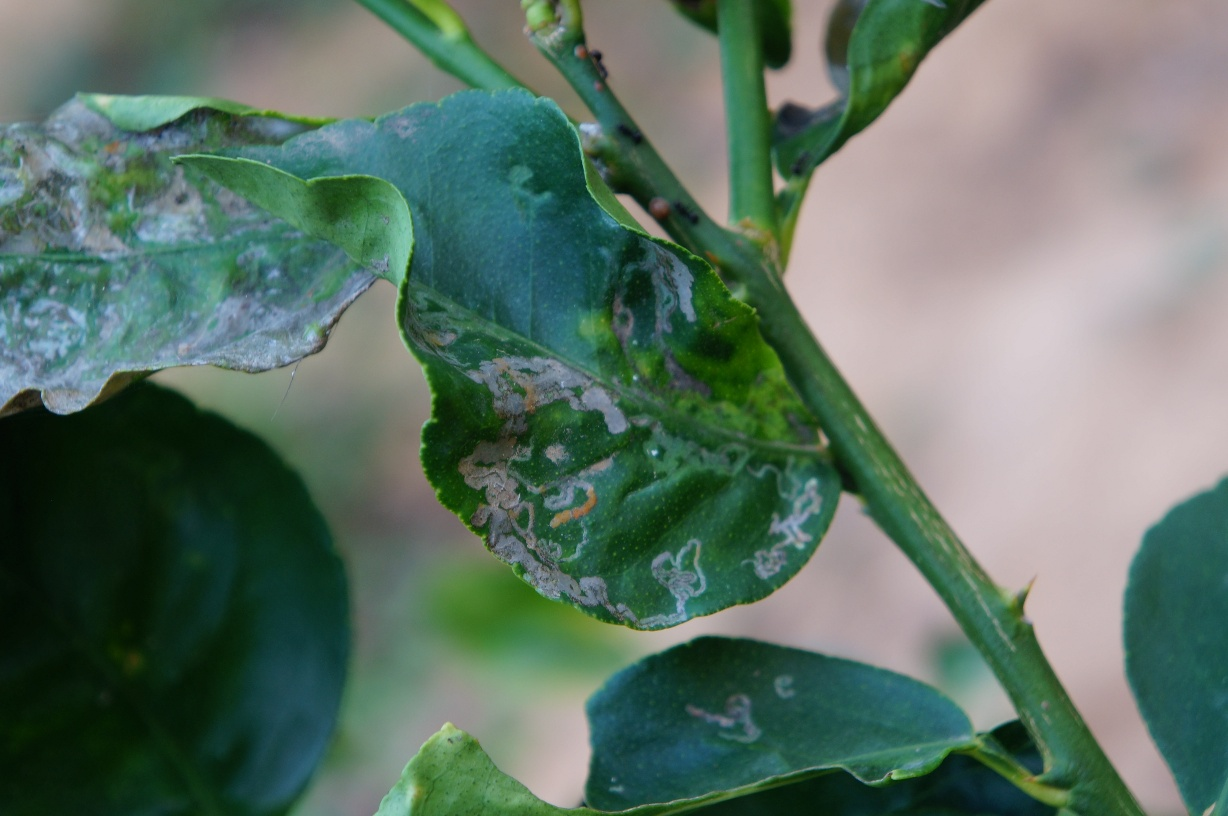damage: (0, 86, 422, 421), (401, 314, 847, 611)
